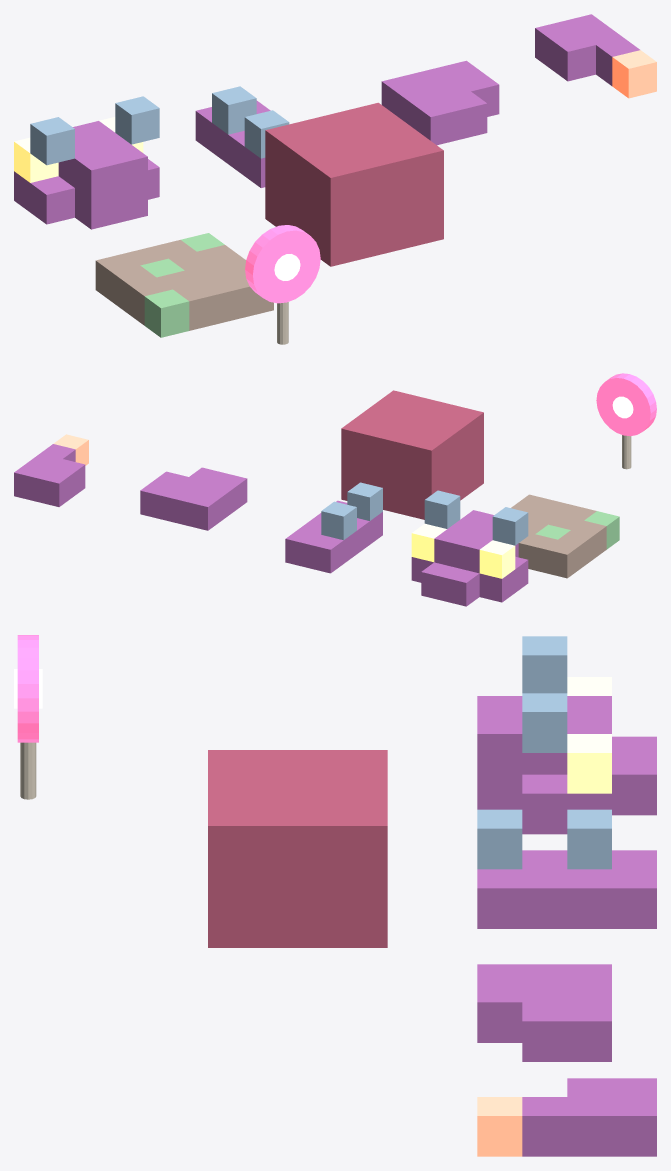
File: dragon_kit.glb
3 views of the same model, one above another, from view 1: azimuth 30°, elevation 25°; view 2: azimuth 150°, elevation 25°; view 3: azimuth 270°, elevation 25° (orthographic). The views are drawn at different scales.
Parts seen in each view (by area): view 1: wall, head, floor, turn, tail, straight, lollipop; view 2: wall, head, floor, straight, turn, tail, lollipop; view 3: wall, head, straight, tail, turn, lollipop.
Boxes of the visible parts, bbox=[...] form: wall: bbox=[265, 102, 443, 266]; head: bbox=[14, 96, 159, 229]; floor: bbox=[95, 233, 273, 337]; turn: bbox=[381, 60, 499, 145]; tail: bbox=[535, 14, 656, 98]; straight: bbox=[195, 86, 289, 187]; lollipop: bbox=[245, 225, 320, 344]; wall: bbox=[341, 390, 483, 519]; head: bbox=[411, 490, 528, 606]; floor: bbox=[511, 494, 619, 578]; straight: bbox=[285, 482, 382, 573]; turn: bbox=[140, 467, 247, 530]; tail: bbox=[14, 434, 88, 506]; lollipop: bbox=[596, 373, 656, 469]; wall: bbox=[208, 750, 387, 947]; head: bbox=[477, 636, 656, 834]; straight: bbox=[477, 809, 656, 928]; tail: bbox=[477, 1078, 656, 1156]; turn: bbox=[477, 964, 611, 1061]; lollipop: bbox=[14, 635, 42, 799].
Size of the model in its own units: 5.25 by 1.21 by 3.58.
